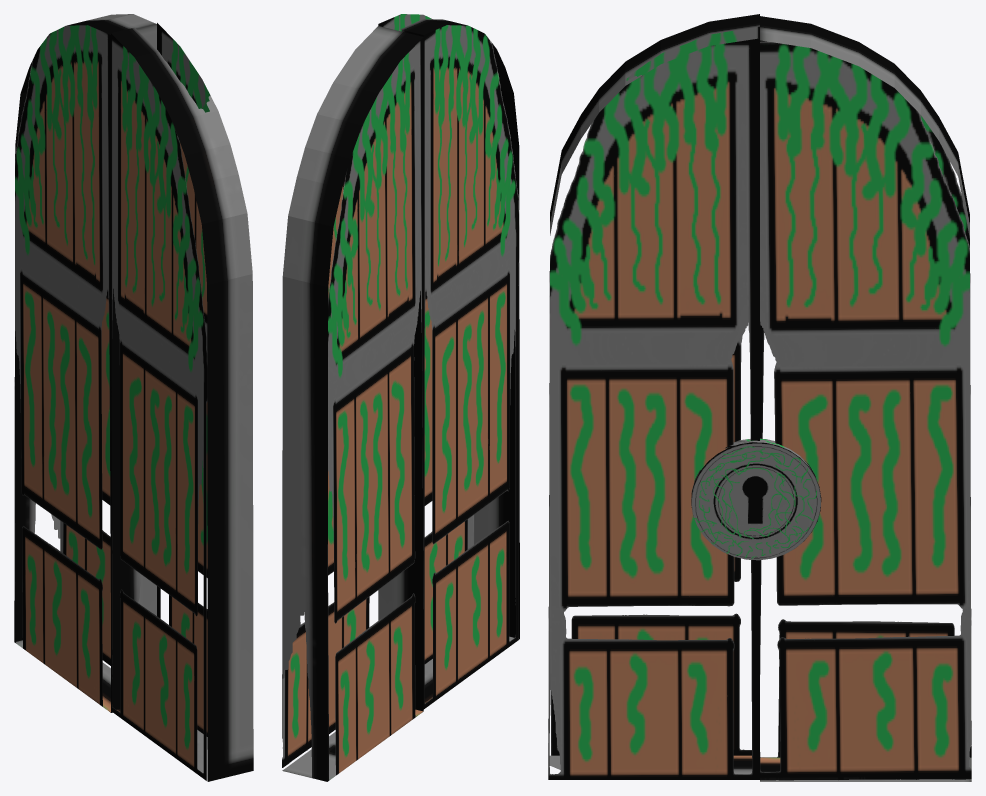
Rendered from Puerta culia.fbx.
3 views of the same model, side by side, from view 1: azimuth 30°, elevation 25°; view 2: azimuth 150°, elevation 25°; view 3: azimuth 270°, elevation 25° (orthographic). The views are drawn at different scales.
Visible parts, largest first — view 1: PuertaIzq, PuertaDer; view 2: PuertaDer, PuertaIzq; view 3: PuertaDer, PuertaIzq.
Part boxes in pixels (x1,y1,x2,y2): PuertaIzq: (111, 23, 253, 781); PuertaDer: (14, 14, 156, 712); PuertaDer: (282, 26, 423, 781); PuertaIzq: (378, 14, 519, 709); PuertaDer: (691, 16, 971, 781); PuertaIzq: (548, 14, 759, 779).
Bounding box in the file's own units: 214 × 2844 × 1467.
Materials: 2 (2 with a texture image).
